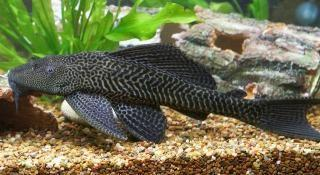Janitor Fish: (8, 43, 320, 145)
